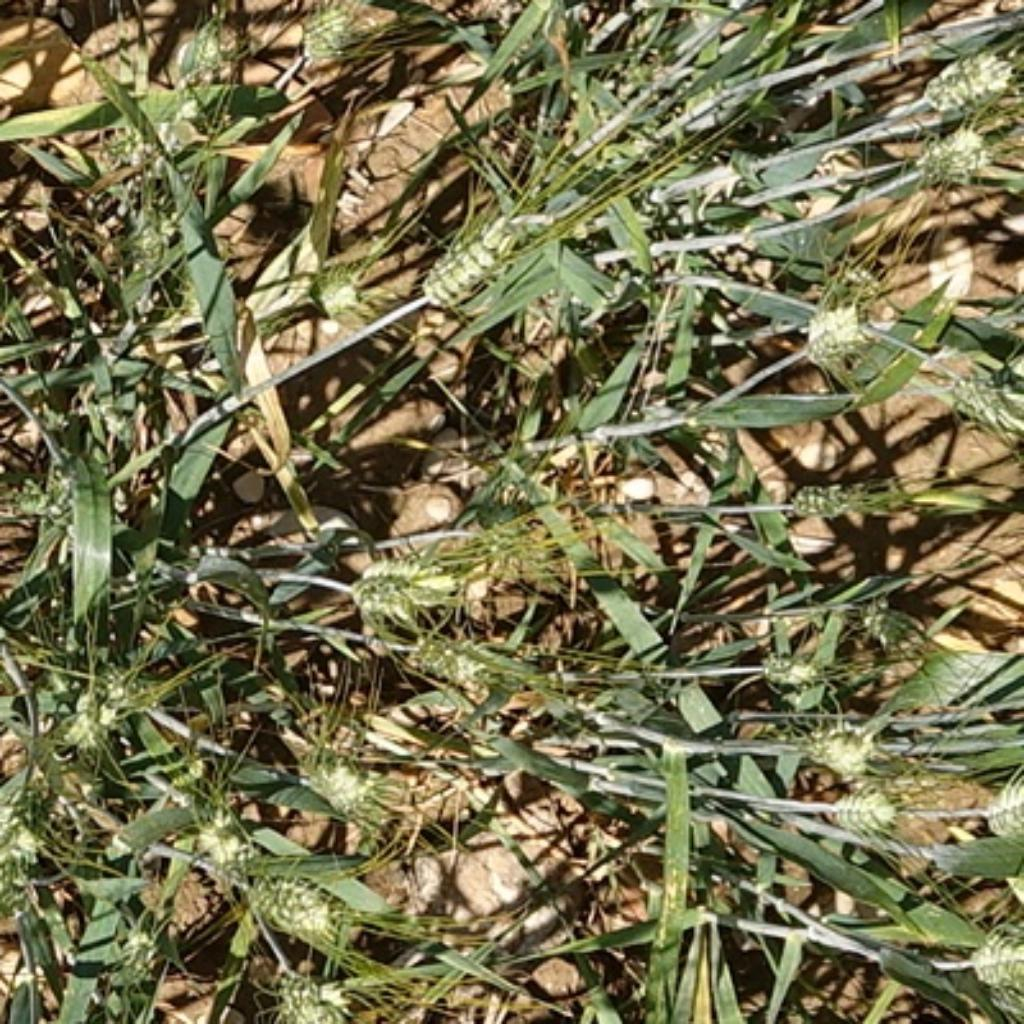0-0: (116, 177, 561, 310), (0, 755, 74, 903), (404, 619, 540, 696), (58, 652, 163, 747), (349, 544, 472, 622), (291, 732, 391, 819), (153, 5, 245, 99), (240, 857, 343, 939), (915, 48, 1020, 125), (284, 0, 391, 74), (89, 911, 163, 1011), (181, 801, 268, 883), (849, 583, 936, 663), (931, 345, 1018, 424), (798, 281, 878, 363), (791, 704, 883, 775), (965, 747, 1024, 857), (780, 468, 893, 524), (266, 960, 363, 1024), (908, 117, 995, 179), (967, 921, 1024, 999), (755, 634, 826, 691), (819, 780, 893, 832), (304, 250, 366, 312), (0, 289, 2, 373)
